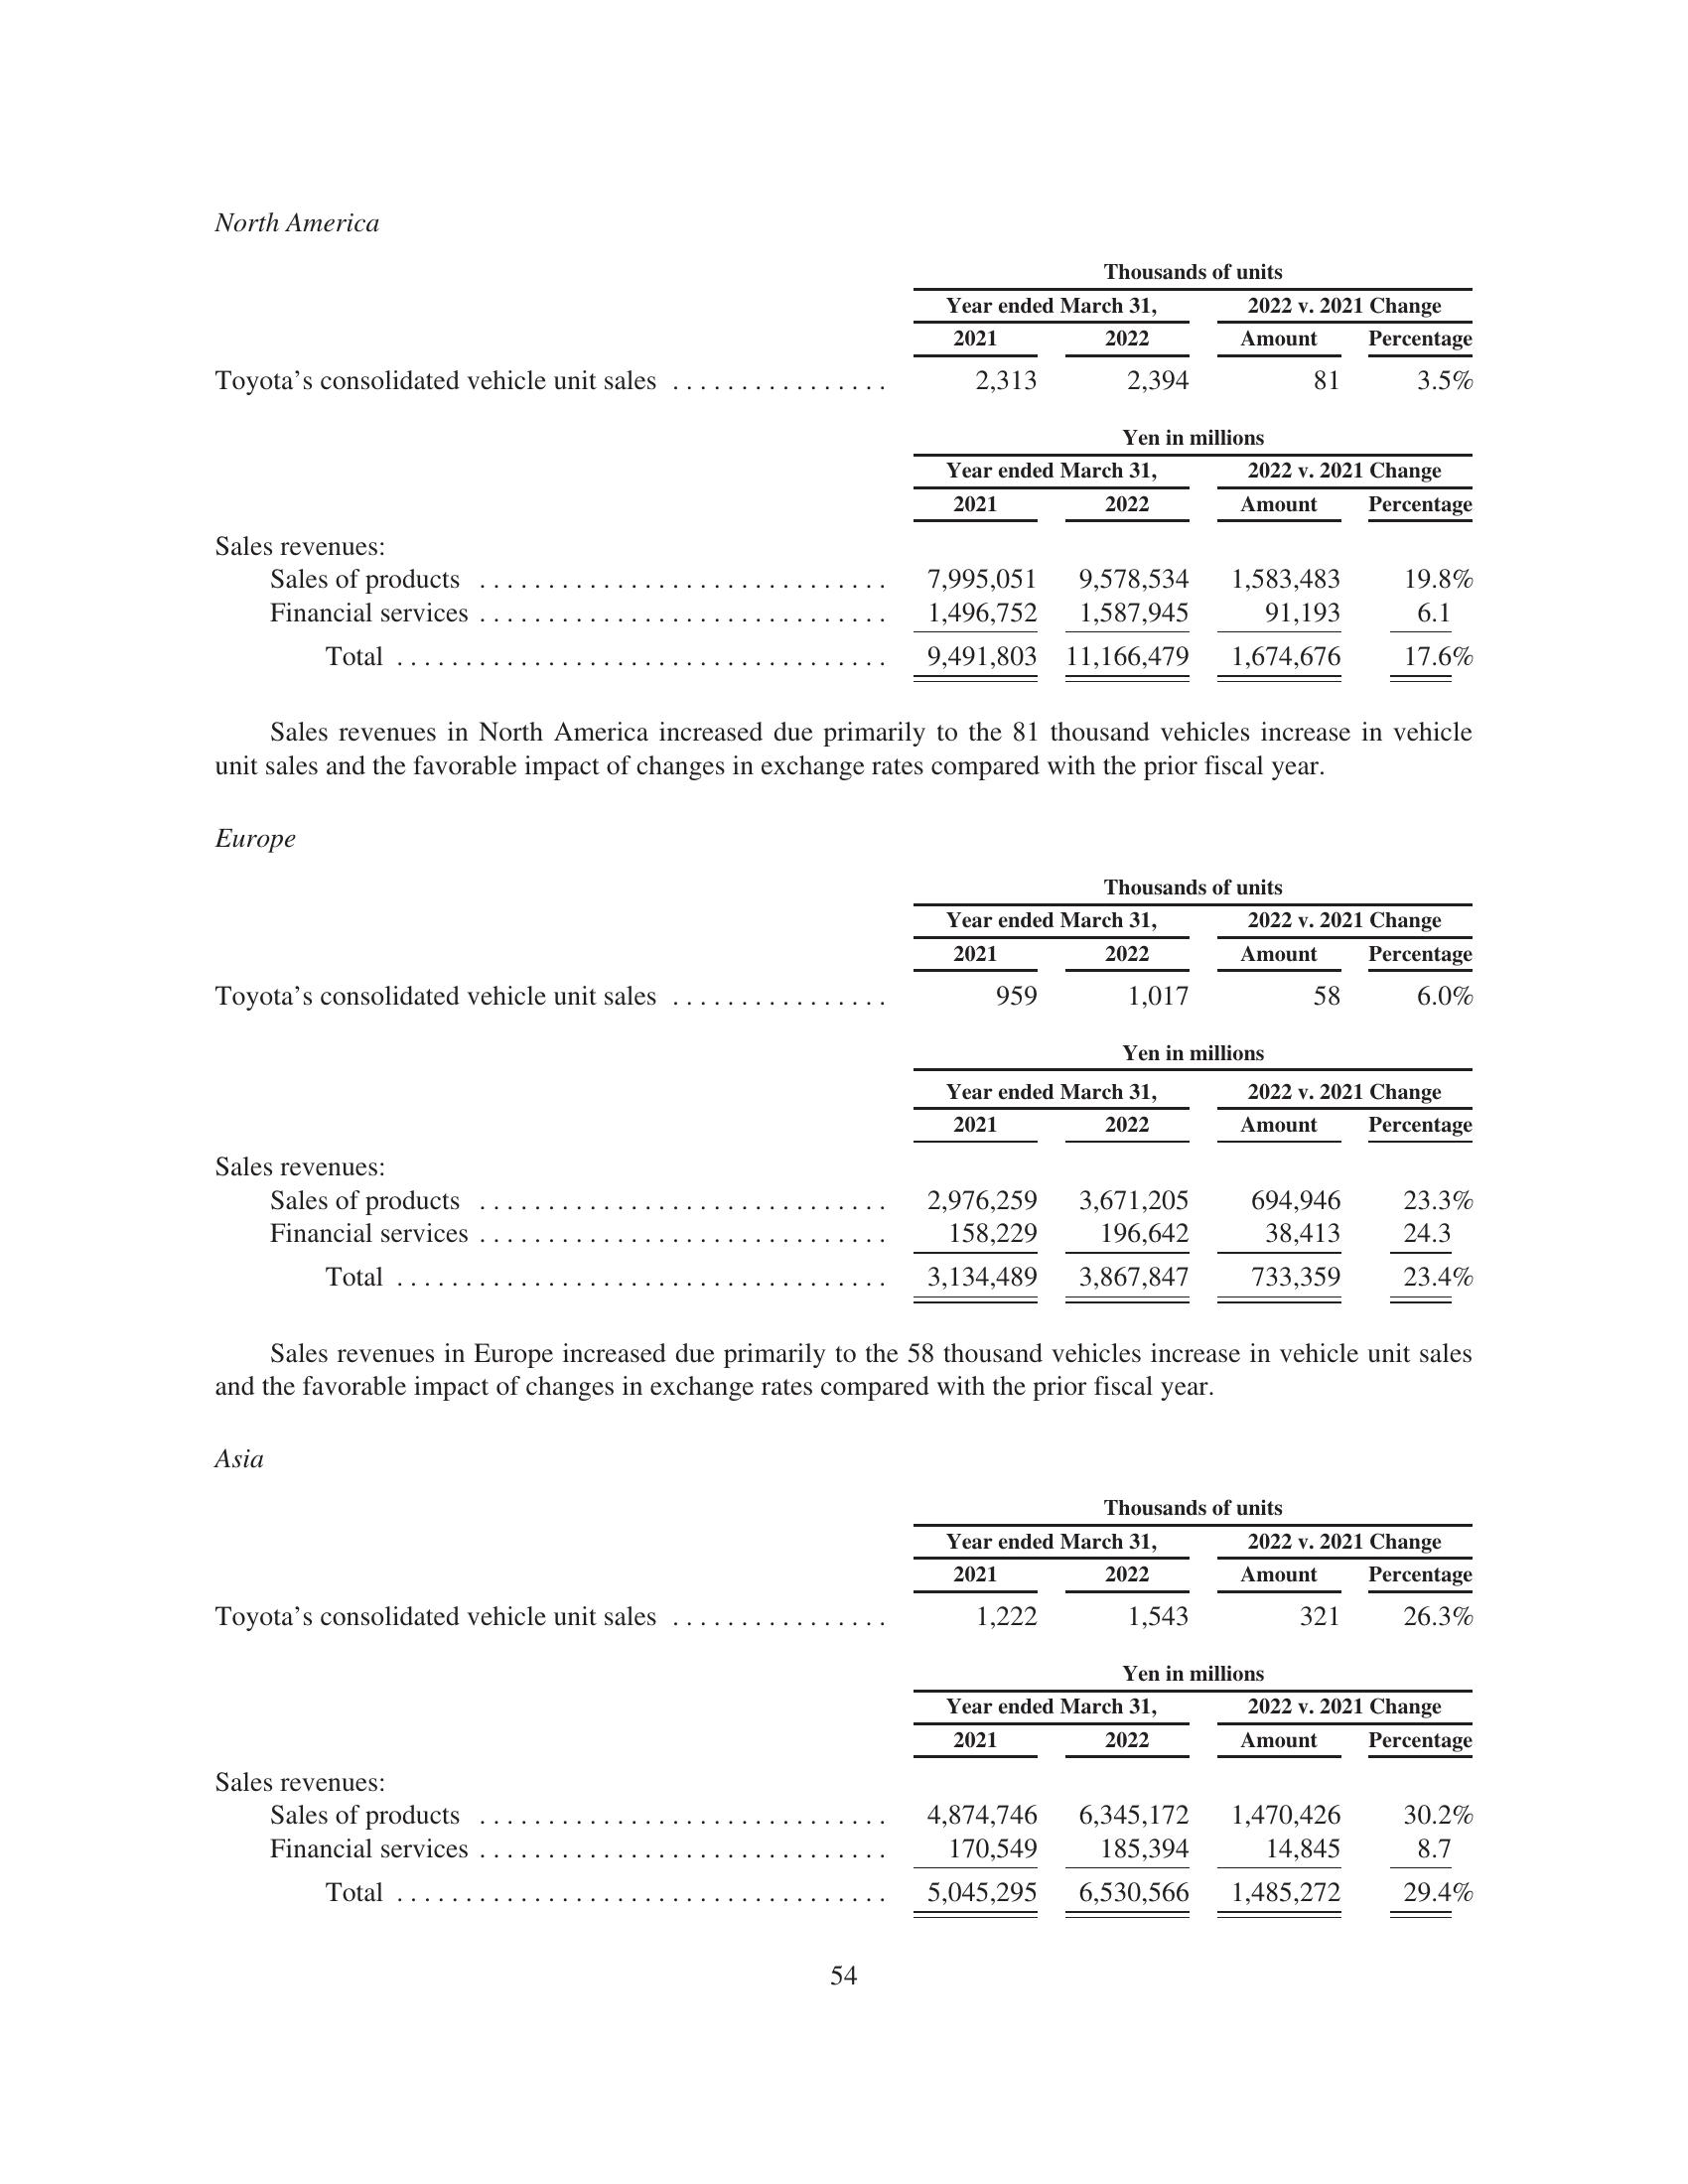Footer: (0, 1950, 1688, 2184)
Header: (0, 0, 1688, 167)
Table: (160, 1643, 1525, 1938), (200, 422, 1495, 707), (163, 1039, 1500, 1294), (160, 1473, 1512, 1634), (193, 252, 1500, 404), (167, 876, 1500, 1018)
